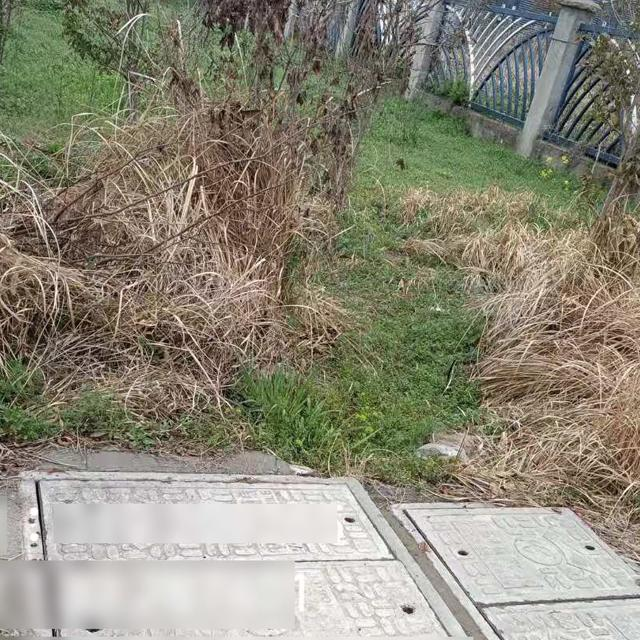good: (15, 468, 569, 640), (394, 500, 640, 640)
